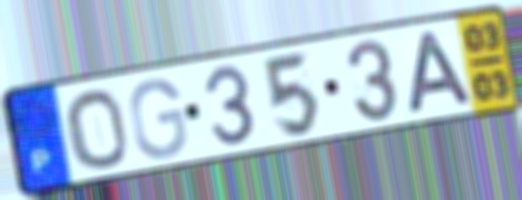3: (202, 61, 257, 150), (345, 37, 401, 124)
5: (259, 47, 324, 140)
A: (403, 27, 477, 117)
G: (126, 76, 191, 162)
O: (61, 86, 132, 171)
